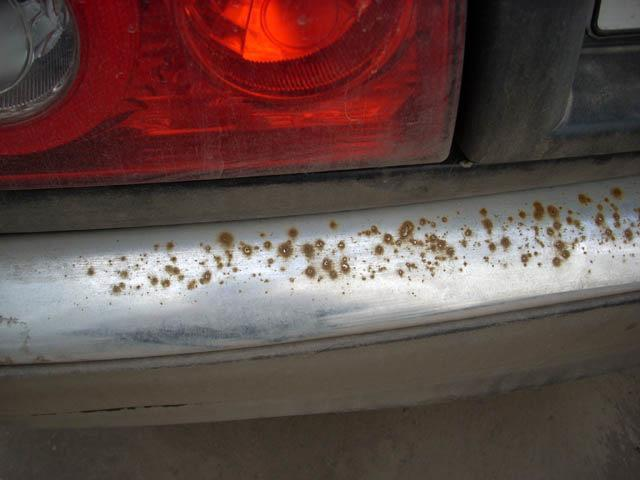corrosion: (69, 174, 640, 298)
